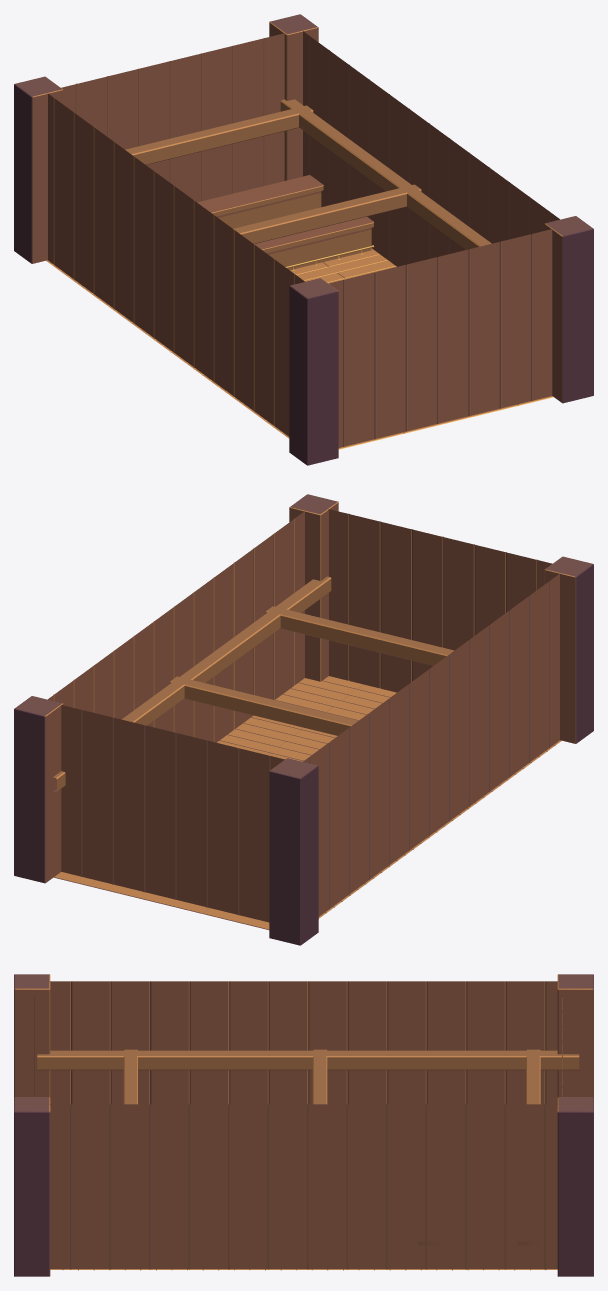
The model's file is Saloon_Interior_base_01.FBX.
The picture shows the model from 3 angles, top to bottom: view 1: azimuth 30°, elevation 25°; view 2: azimuth 150°, elevation 25°; view 3: azimuth 270°, elevation 25°; orthographic projection.
Visible parts, largest first — view 1: Saloon; view 2: Saloon; view 3: Saloon.
Part boxes in pixels (x1,y1,x2,y2): Saloon: (14, 14, 593, 465); Saloon: (14, 494, 593, 945); Saloon: (14, 974, 593, 1276).
Size of the model in its own units: 630 by 351 by 1117.
